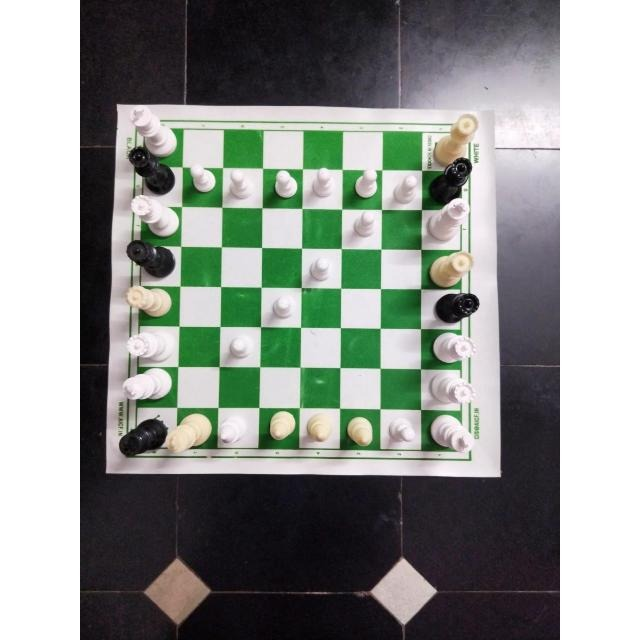black-king: (116, 411, 164, 460)
black-queen: (128, 144, 176, 194), (428, 156, 473, 204), (425, 292, 483, 325), (125, 242, 175, 278)
white-bishop: (302, 410, 338, 448), (264, 409, 298, 447), (216, 411, 249, 444), (345, 413, 376, 447)
white-king: (125, 105, 177, 154), (426, 411, 482, 456), (425, 197, 473, 244), (120, 367, 172, 407), (165, 411, 209, 456)
white-pawn: (262, 164, 300, 206), (224, 165, 256, 207), (185, 162, 218, 202), (303, 249, 336, 288), (222, 331, 255, 367), (346, 166, 378, 202), (384, 414, 416, 450), (266, 290, 298, 325), (306, 164, 337, 200), (347, 210, 379, 244), (386, 172, 417, 207)
white-queen: (431, 112, 480, 161), (131, 193, 181, 240), (423, 250, 477, 290), (429, 369, 479, 410), (124, 283, 172, 321), (121, 327, 170, 363), (430, 332, 480, 366)
